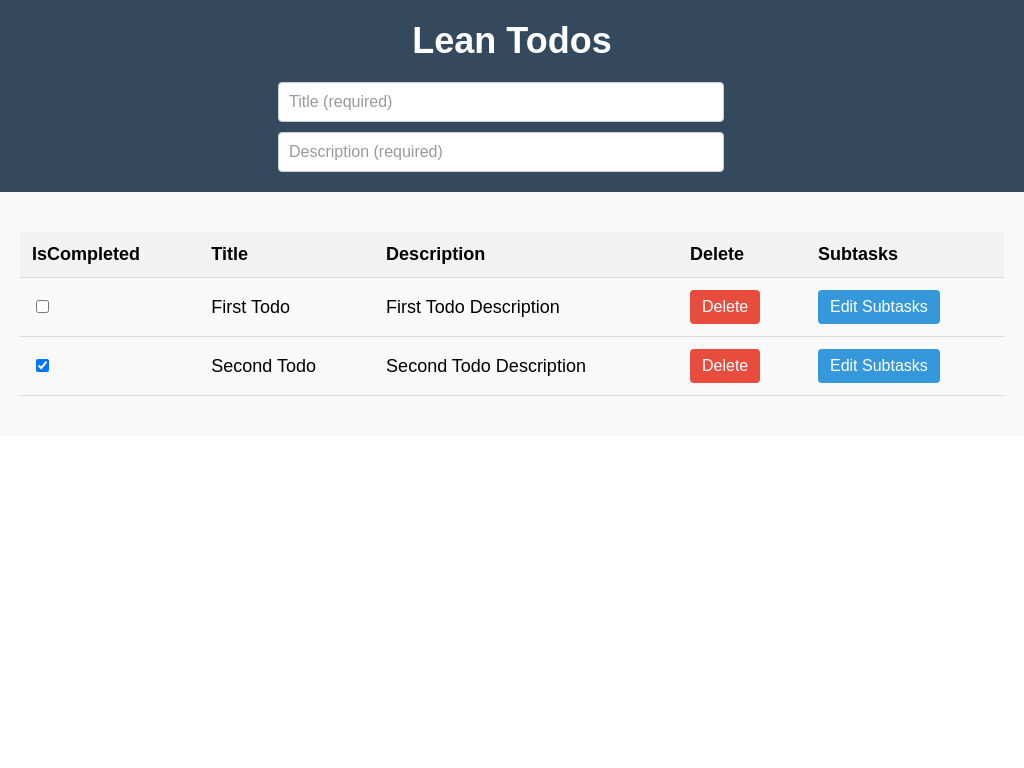
Test: Todos › adds new subTask
Click the button with test id "subtasks" in the row of "Second Todo Description" at (879, 366), box [818,349,940,383]
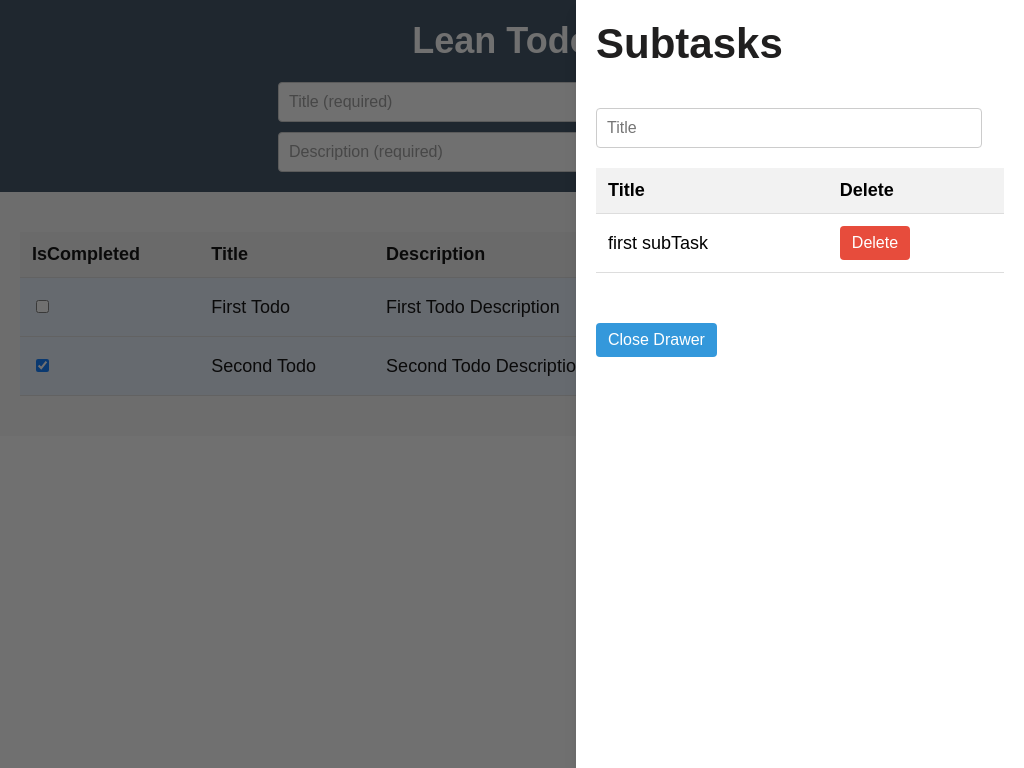
Type "foo" into the field with test id "newTitle" showing "Title" at (789, 128), box [596,108,982,148]
Then press Enter
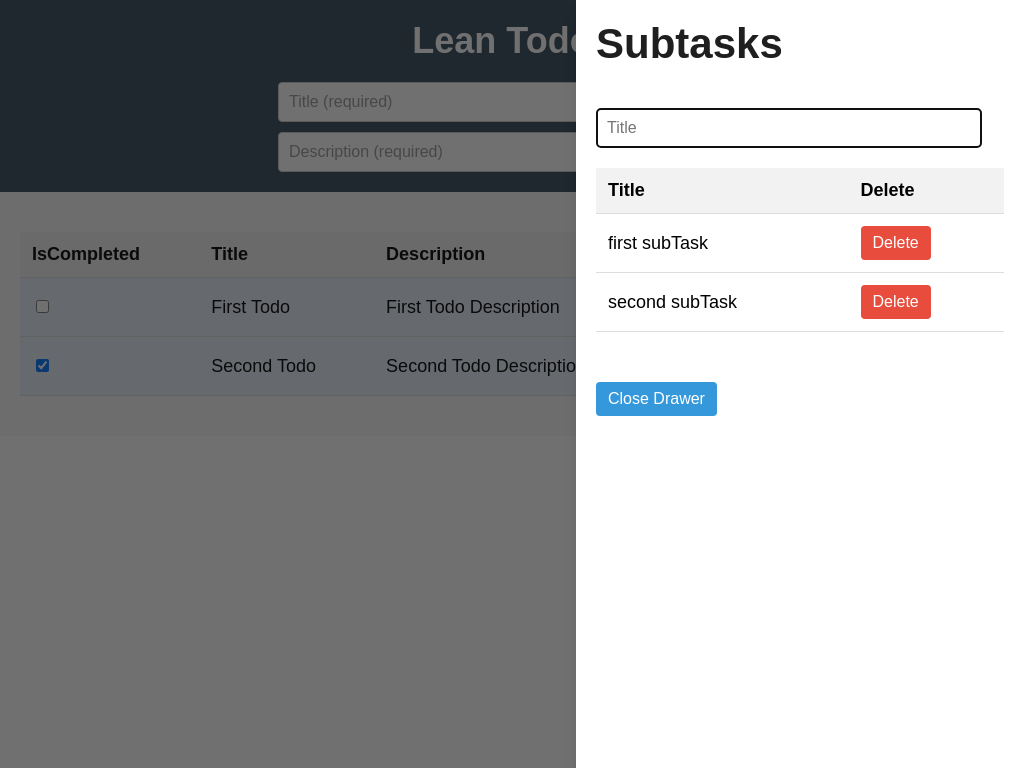
Now the row with test id "subTasks" shows "first subTask", box [596,214,1004,273]
Now the row with test id "subTasks" shows "second subTask", box [596,273,1004,332]
